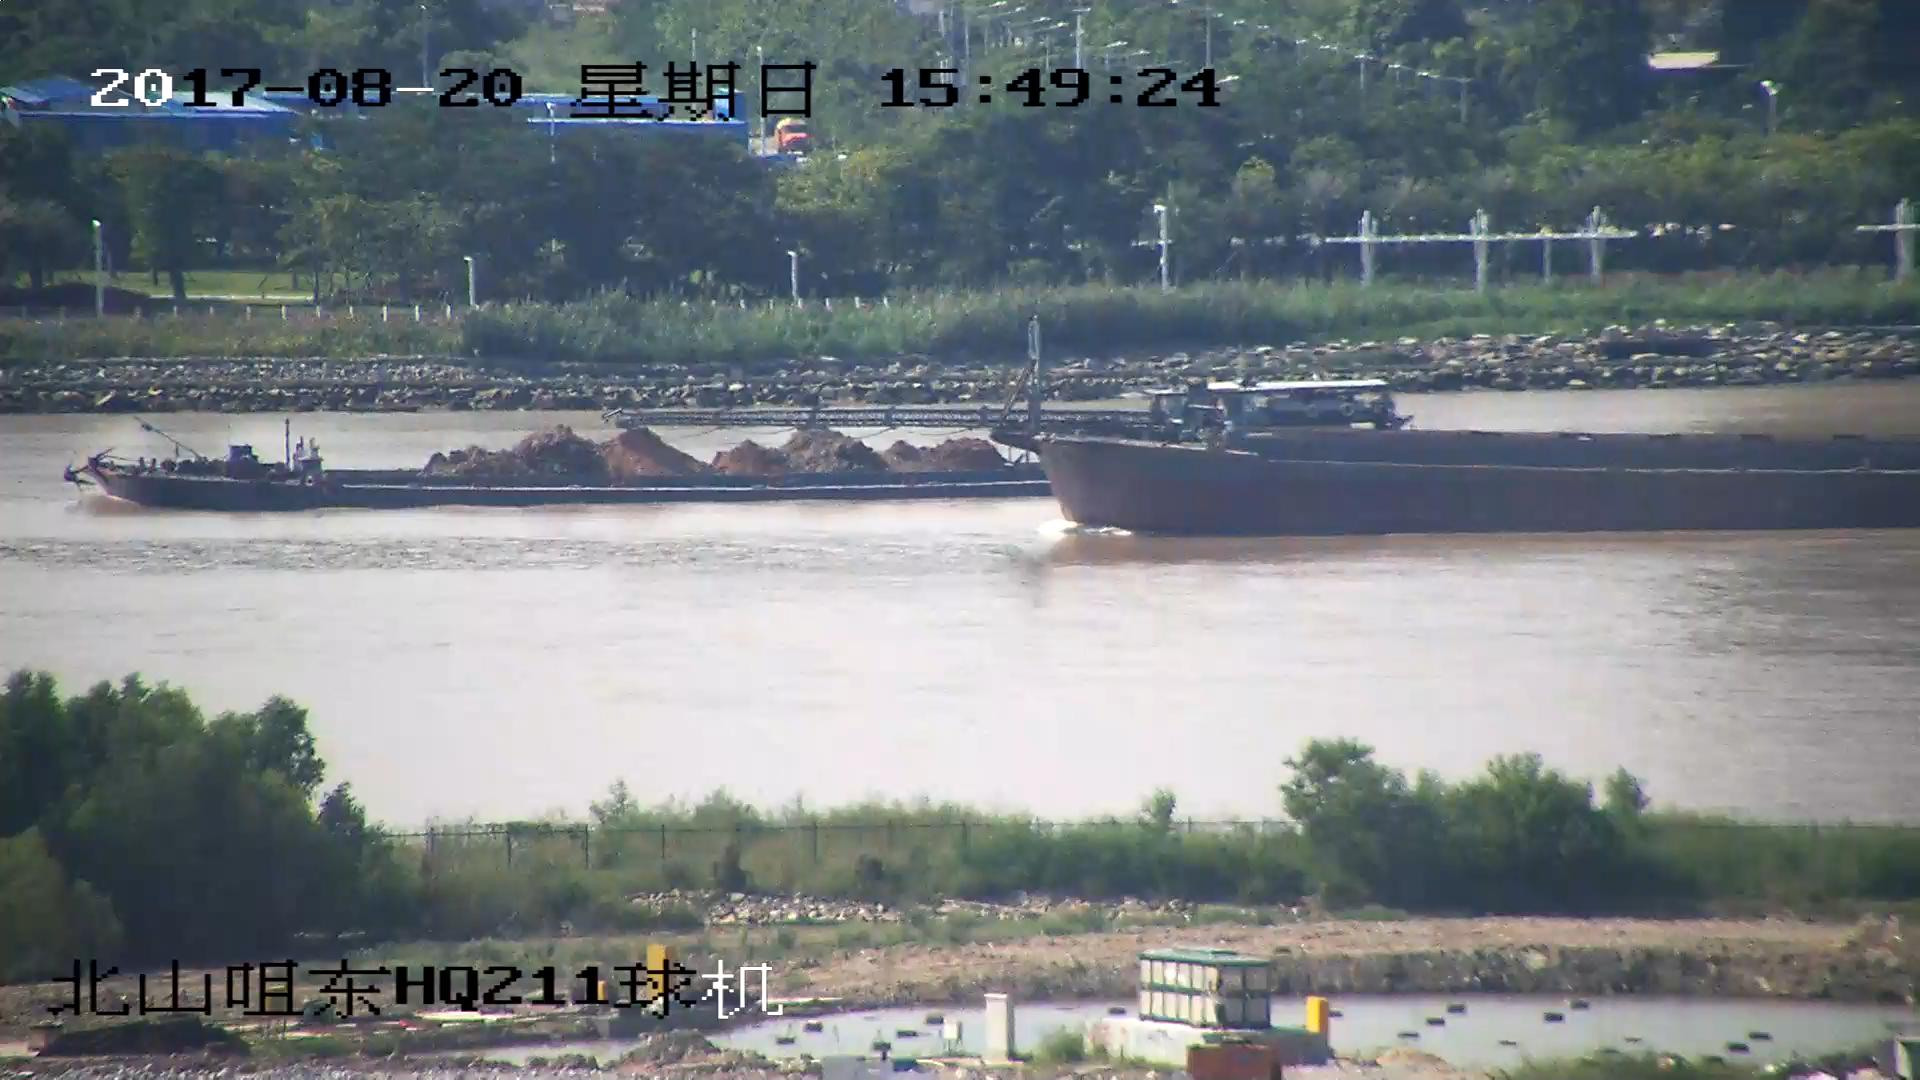bulk cargo carrier: (635, 337, 1920, 535)
ore carrier: (63, 369, 1406, 514)
